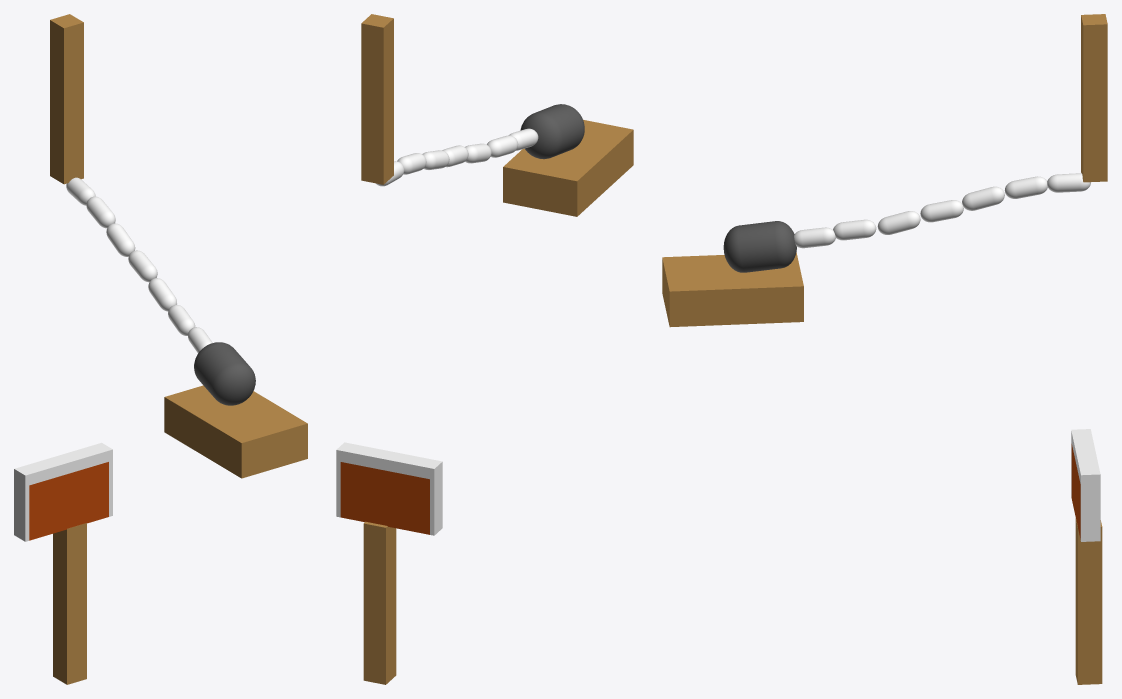
File: demo.fbx
3 renders of one model, left to right at view 1: azimuth 30°, elevation 25°; view 2: azimuth 150°, elevation 25°; view 3: azimuth 270°, elevation 25°, orthographic.
Parts seen in each view (by area): view 1: MainPillar__2_, MainPillar, MainPillar__1_, Brick8__1_, Rock__1_, Cement1, Cement3, RopePart_2, RopePart_3, RopePart_4, RopePart_1, RopePart_5 (+1 smaller); view 2: MainPillar__2_, MainPillar, MainPillar__1_, Brick8__1_, Rock__1_, Cement1, Cement3, RopePart_5; view 3: MainPillar__2_, MainPillar, MainPillar__1_, Rock__1_, Cement2, Cement1, RopePart_1, RopePart_3, RopePart_2, RopePart_4, RopePart_5, RopePart_6 (+1 smaller).
Part boxes in pixels (box(x1,y1,x2,y2)): MainPillar__2_: box(164, 385, 307, 478); MainPillar: box(50, 14, 83, 184); MainPillar__1_: box(53, 523, 86, 684); Brick8__1_: box(29, 462, 108, 540); Rock__1_: box(194, 342, 255, 405); Cement1: box(18, 444, 108, 485); Cement3: box(14, 468, 29, 541); RopePart_2: box(106, 223, 135, 256); RopePart_3: box(128, 250, 157, 282); RopePart_4: box(148, 278, 176, 311); RopePart_1: box(86, 196, 115, 228); RopePart_5: box(168, 304, 195, 335); MainPillar__2_: box(503, 119, 633, 216); MainPillar: box(361, 14, 393, 184); MainPillar__1_: box(363, 521, 396, 684); Brick8__1_: box(340, 462, 429, 534); Rock__1_: box(520, 104, 584, 159); Cement1: box(340, 443, 437, 479); Cement3: box(430, 460, 442, 535); RopePart_5: box(487, 135, 518, 157); MainPillar__2_: box(662, 252, 803, 327); MainPillar: box(1081, 14, 1107, 182); MainPillar__1_: box(1075, 517, 1102, 684); Rock__1_: box(723, 221, 796, 272); Cement2: box(1080, 472, 1100, 541); Cement1: box(1071, 431, 1099, 483); RopePart_1: box(1004, 176, 1047, 198); RopePart_3: box(920, 200, 963, 222); RopePart_2: box(962, 186, 1004, 210); RopePart_4: box(877, 211, 920, 234); RopePart_5: box(833, 219, 876, 240); RopePart_6: box(794, 227, 835, 248).
Bounding box in the file's own units: 445 × 2962 × 1814.
